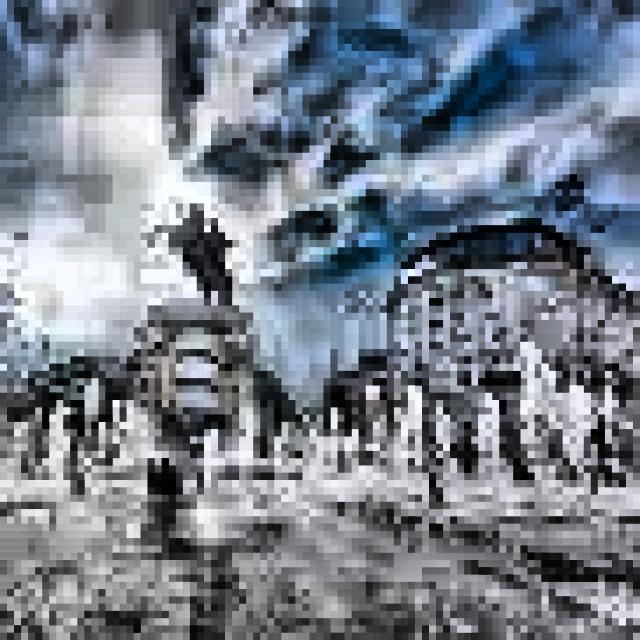alexander the great monument: (149, 208, 257, 472)
